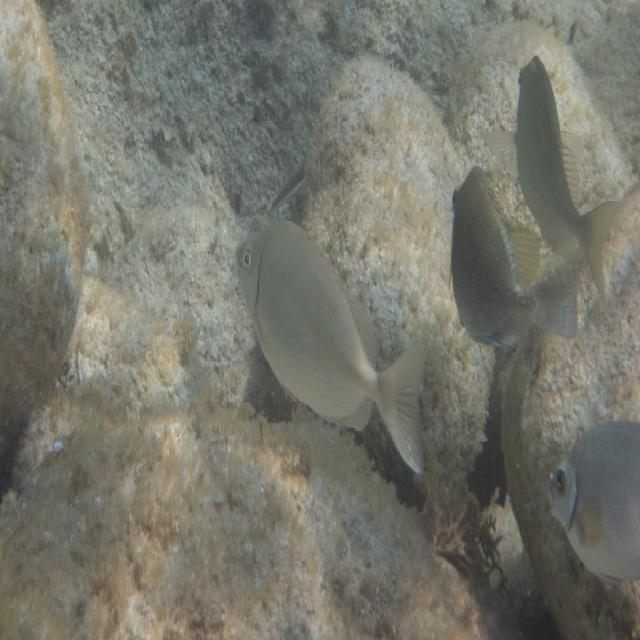Sokar Baligi: (222, 188, 441, 502)
